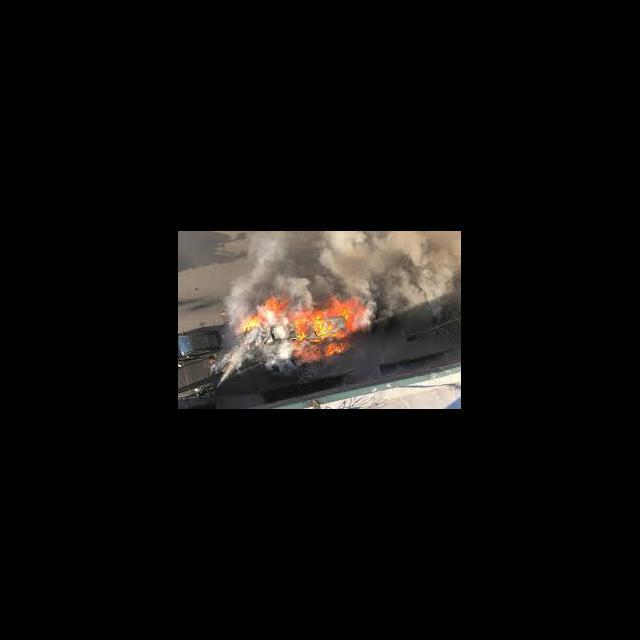Fire: (244, 296, 371, 362)
Smoke: (244, 232, 460, 294)
